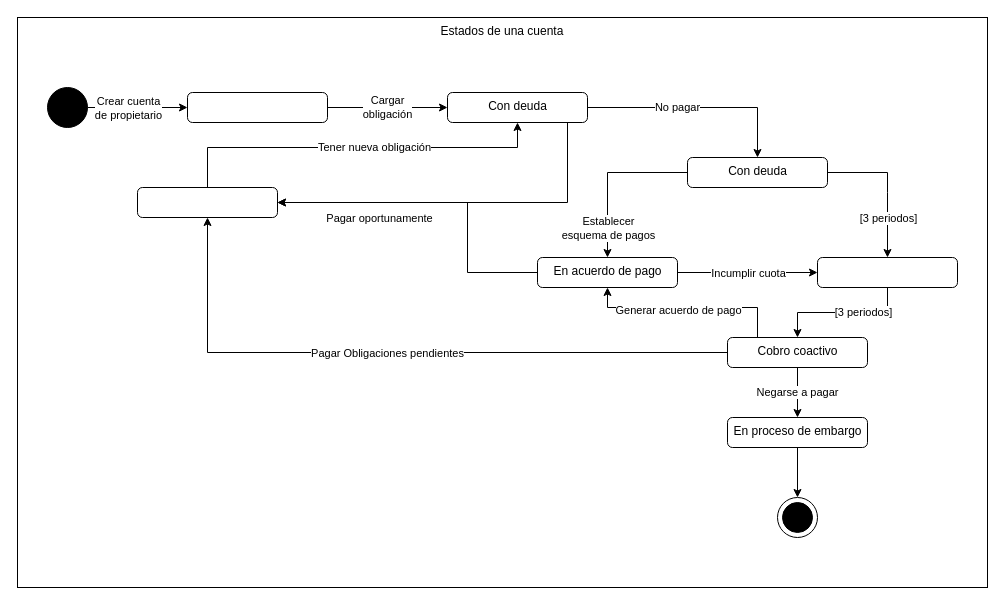
Some shapes in this 1005 by 605 pixel diagram are drawn without their labels. The shapes that lost their labels are listed below. From the top down, each one's centre as x and y in pixels, then its label:
the point at 257,107: Creado
the point at 207,202: Al día
the point at 887,272: Moroso
